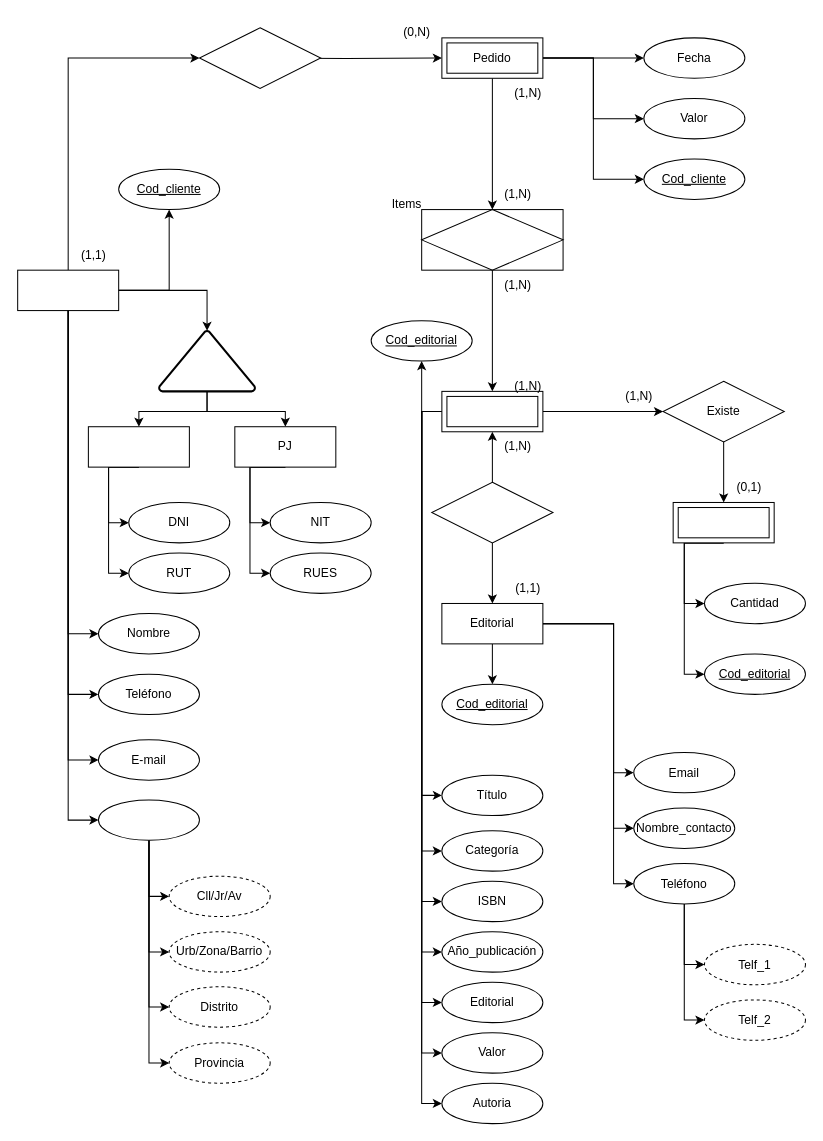
This 823x1141 diagram has some shape labels left out. Each missing label, with the centre of its shape:
"Cliente" belongs at (x=68, y=290).
"Contiene" belongs at (x=492, y=239).
"Dirección" belongs at (x=148, y=819).
"ID" belongs at (x=207, y=360).
"Inventario" belongs at (x=723, y=522).
"Libro" belongs at (x=492, y=411).
"Pertence" belongs at (x=492, y=512).
"PN" belongs at (x=138, y=446).
"Realiza" belongs at (x=259, y=57).
